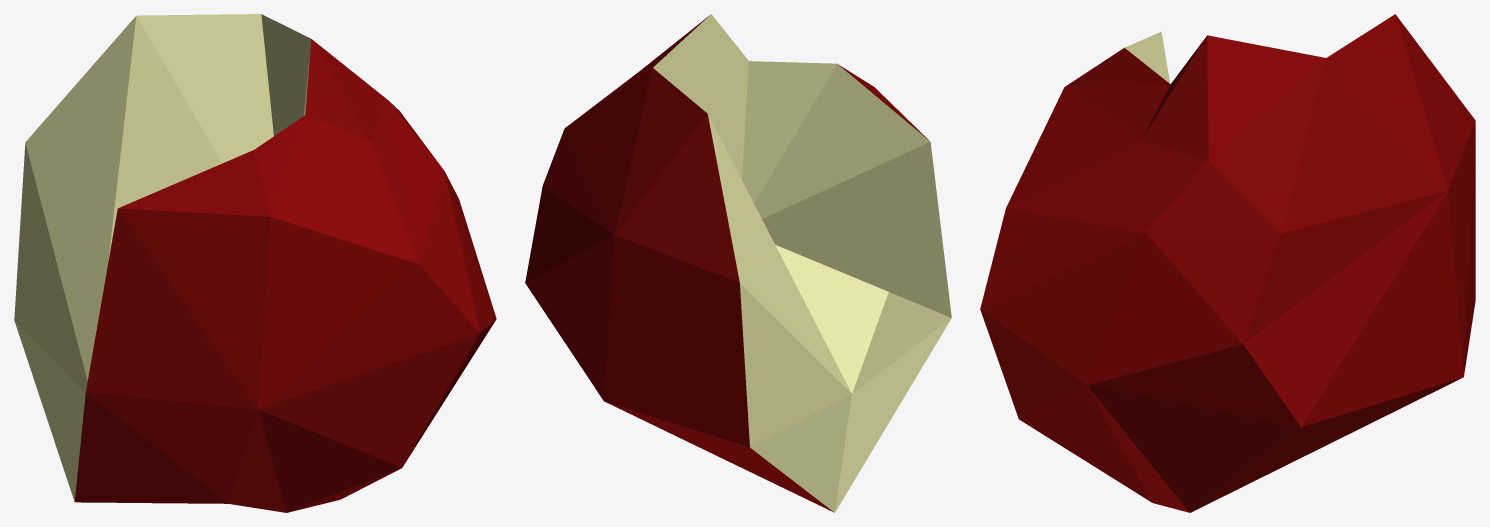
Rendered from sliced_apple.fbx.
The picture shows the model from 3 angles, left to right: view 1: azimuth 30°, elevation 25°; view 2: azimuth 150°, elevation 25°; view 3: azimuth 270°, elevation 25°; orthographic projection. The views are drawn at different scales.
Parts seen in each view (by area): view 1: Apple_0_8; view 2: Apple_0_8; view 3: Apple_0_8.
Boxes of the visible parts, x1,y1,x2,y2 form: Apple_0_8: (14, 14, 496, 512); Apple_0_8: (525, 14, 951, 512); Apple_0_8: (980, 14, 1475, 512).
Size of the model in its own units: 14.92 by 15.96 by 14.93.
